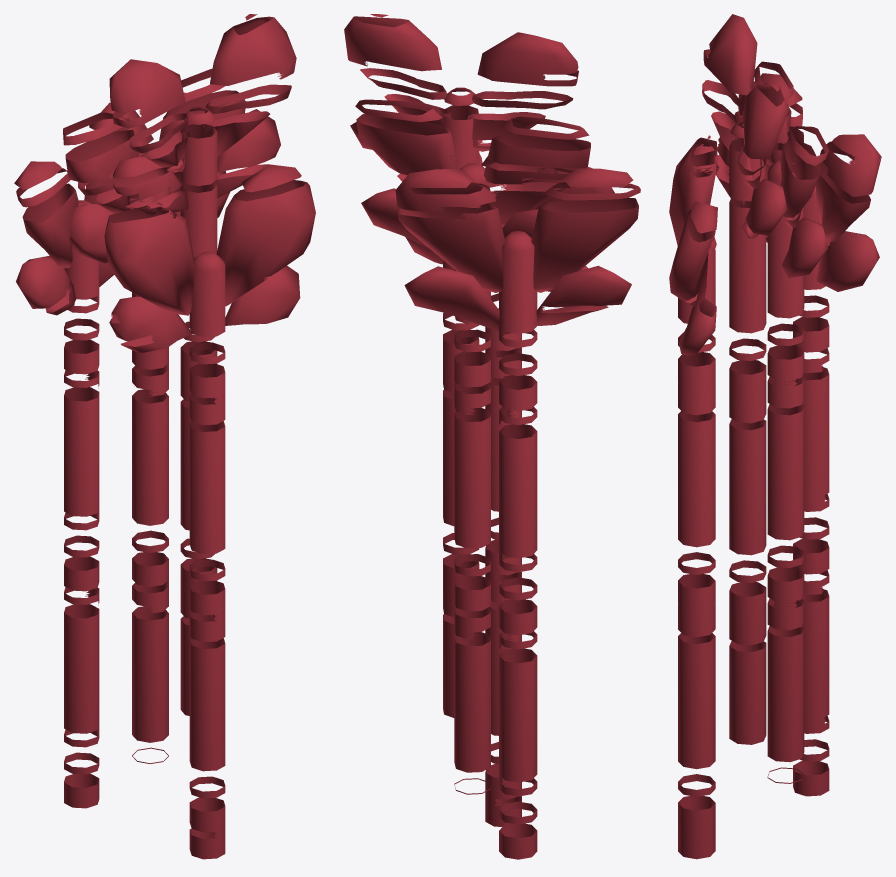
Rendered from ArrowsRandomEffect.fbx.
The picture shows the model from 3 angles, left to right: view 1: azimuth 30°, elevation 25°; view 2: azimuth 150°, elevation 25°; view 3: azimuth 270°, elevation 25°; orthographic projection. The views are drawn at different scales.
Visible parts, largest first — view 1: RandomArrows.002; view 2: RandomArrows.002; view 3: RandomArrows.002.
Part boxes in pixels (x1,y1,x2,y2): RandomArrows.002: (14,14,315,859); RandomArrows.002: (344,14,640,859); RandomArrows.002: (669,14,881,859).
Size of the model in its own units: 112 by 308 by 73.23.
